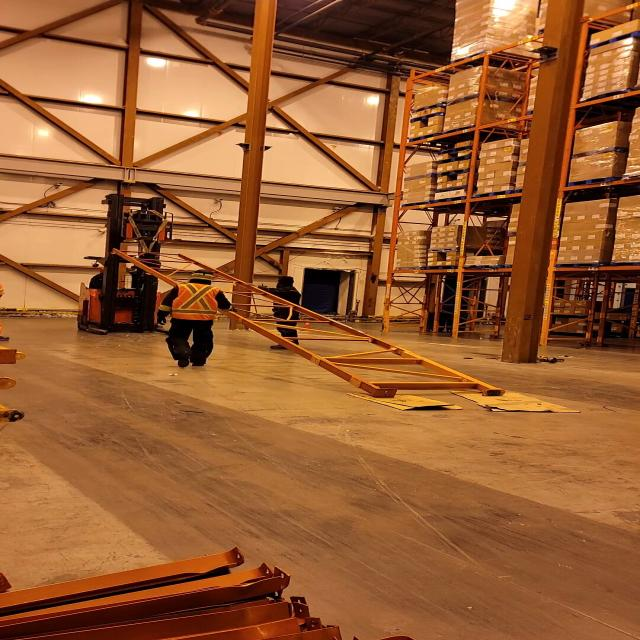forklift: (74, 197, 177, 337)
human: (153, 269, 239, 369), (256, 273, 308, 353)
objectofinterest: (106, 245, 504, 400), (440, 385, 585, 416), (342, 385, 464, 412)
